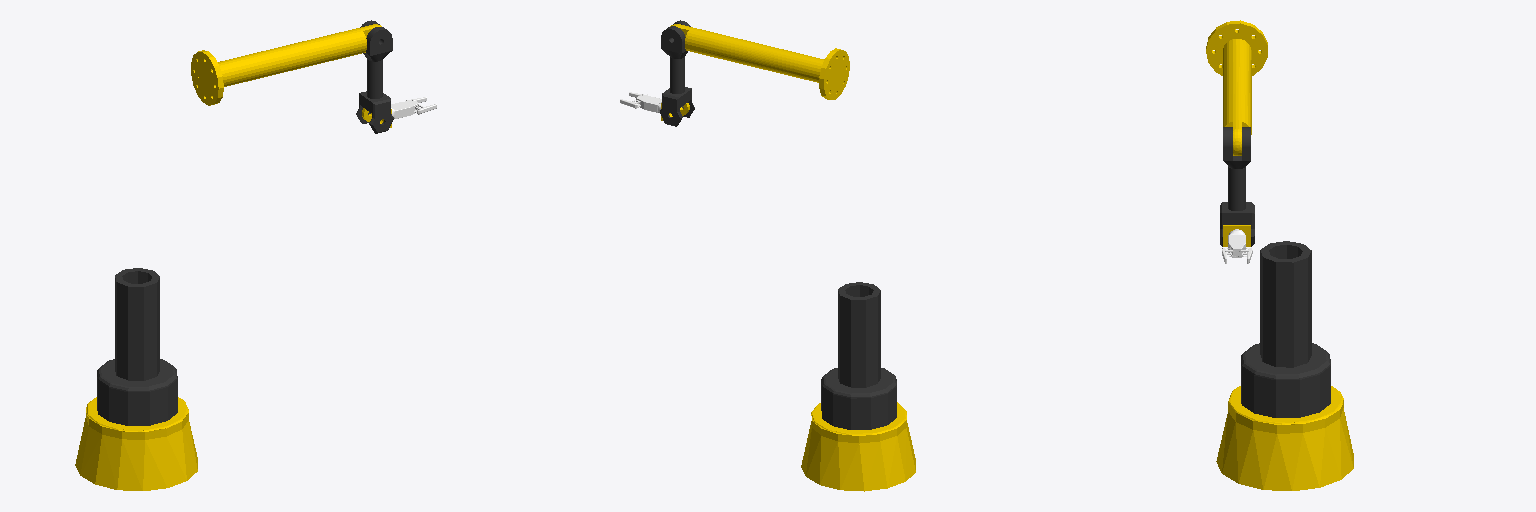
URDF robot description (robot):
<?xml version="1.0"?>

<robot name="robot">

  <!-- Color of materials -->
  <material name="yellow">
    <color rgba="1 0.839 0 1"/>
  </material>
  <material name="gray">
    <color rgba="0.267 0.267 0.267 1"/>
  </material>
  <material name="steel">
    <color rgba="0.7 0.7 0.7 1"/>
  </material>
  <material name="white">
    <color rgba="1 1 1 1"/>
  </material> 

  <link name="Base">
    <visual>
      <geometry>
        <mesh filename="package://proyecto/meshes/Base.stl" scale="0.01 0.01 0.01"/>
      </geometry>
      <origin rpy="0 0 0.3" xyz="0 0 0"/>
      <material name="yellow" />
    </visual>
    <inertial>
      <mass value="100"/>
      <origin rpy="0 0 0" xyz="0.0 0.0 0.0"/>
      <inertia ixx="0.145" ixy="0.0" ixz="0.0" iyy="14.5" iyz="0.0" izz="20.708"/>
    </inertial>
  </link>
  <gazebo reference="Base">
    <material>Gazebo/White</material>
  </gazebo>

  <joint name="q1" type="revolute">
    <parent link="Base"/>
    <child link="Eslabon1"/>
    <origin xyz="0 0 0.3"/>
    <axis xyz="0 0 1" />
    <limit effort="300" velocity="0.1" lower="-3.1" upper="3.1"/>
    <dynamics damping="50" friction="1"/>
  </joint>

  <link name="Eslabon1">
    <visual>
      <geometry>
        <mesh filename="package://proyecto/meshes/Eslabon1.stl" scale="0.01 0.01 0.01"/>
      </geometry>
      <origin rpy="0 0 0.3" xyz="0 0 0"/>
      <material name="gray" />
    </visual>
    <inertial>
      <mass value="10"/>
      <origin rpy="0 0 0" xyz="0.0 0.0 0.0"/>
      <inertia ixx="12.429" ixy="0.0" ixz="0.0" iyy="12.429" iyz="0.0" izz="4.797"/>
    </inertial>
  </link>
  <gazebo reference="Eslabon1">
    <material>Gazebo/Red</material>
  </gazebo>

  <joint name="q2" type="prismatic">
    <parent link="Eslabon1"/>
    <child link="Eslabon2"/>
    <origin xyz="0 0 0.2"/>
    <axis xyz="0 0 1" />
    <limit effort="300" velocity="0.1" lower="0" upper="0.5"/>
    <dynamics damping="50" friction="1"/>
  </joint>

  <link name="Eslabon2">
    <visual>
      <geometry>
        <mesh filename="package://proyecto/meshes/Eslabon2.stl" scale="0.01 0.01 0.01"/>
      </geometry>
      <origin rpy="0 0 0.5" xyz="0 0 0"/>
      <material name="steel" />
    </visual>
    <inertial>
      <mass value="0.40"/>
      <origin rpy="0 0 0" xyz="0.0 0.0 0.0"/>
      <inertia ixx="19.032" ixy="0.0" ixz="0.0" iyy="19.032" iyz="0.0" izz="0.578"/>
    </inertial>
  </link>
  <gazebo reference="Eslabon2">
    <material>Gazebo/White</material>
  </gazebo>

  <joint name="q3" type="revolute">
    <parent link="Eslabon2"/>
    <child link="Eslabon3"/>
    <origin xyz="0 -0.21 1.2"/>
    <axis xyz="0 -1 0"/>
    <limit effort="300" velocity="0.1" lower="-3.1" upper="3.1"/>
    <dynamics damping="50" friction="1"/>
  </joint>

  <link name="Eslabon3">
    <visual>
      <geometry>
        <mesh filename="package://proyecto/meshes/Eslabon3.stl" scale="0.01 0.01 0.01"/>
      </geometry>
      <origin rpy="0 0 0" xyz="0 0 0"/>
      <material name="yellow" />
    </visual>
    <inertial>
      <mass value="0.40"/>
      <origin rpy="0 0 0" xyz="0.0 0.0 0.0"/>
      <inertia ixx="6.719" ixy="-0.001" ixz="-0.593" iyy="8.49" iyz="0.011" izz="2.757"/>
    </inertial>
  </link>
  <gazebo reference="Eslabon3">
    <material>Gazebo/White</material>
  </gazebo>

  <joint name="q4" type="revolute">
    <parent link="Eslabon3"/>
    <child link="Eslabon4"/>
    <origin xyz="0.254 0 0.385371"/>
    <axis xyz="1 0 0" />
    <limit effort="300" velocity="0.1" lower="-3.1" upper="3.1"/>
    <dynamics damping="50" friction="1"/>
  </joint>

  <link name="Eslabon4">
    <visual>
      <geometry>
        <mesh filename="package://proyecto/meshes/Eslabon4.stl" scale="0.01 0.01 0.01"/>
      </geometry>
      <origin rpy="0 0 0" xyz="0 0 0"/>
      <material name="yellow" />
    </visual>
    <inertial>
      <mass value="4.0"/>
      <origin rpy="0 0 0" xyz="0.0 0.0 0.0"/>
      <inertia ixx="0.287" ixy="0.0" ixz="0.0" iyy="8.504" iyz="0.0" izz="8.499"/>
    </inertial>
  </link>
  <gazebo reference="Eslabon4">
    <material>Gazebo/White</material>
  </gazebo>

  <joint name="q5" type="revolute">
    <parent link="Eslabon4"/>
    <child link="Eslabon5"/>
    <origin xyz="0.95 0 0"/>
    <axis xyz="0 1 0" />
    <limit effort="300" velocity="0.1" lower="-3.1" upper="3.1"/>
    <dynamics damping="50" friction="1"/>
  </joint>

  <link name="Eslabon5">
    <visual>
      <geometry>
        <mesh filename="package://proyecto/meshes/Eslabon5.stl" scale="0.01 0.01 0.01"/>
      </geometry>
      <origin rpy="0 0 0" xyz="0 0 0"/>
      <material name="gray" />
    </visual>
    <inertial>
      <mass value="4.0"/>
      <origin rpy="0 0 0" xyz="0.0 0.0 0.0"/>
      <inertia ixx="0.648" ixy="0.0" ixz="0.0" iyy="0.629" iyz="0.0" izz="0.068"/>
    </inertial>
  </link>
  <gazebo reference="Eslabon5">
    <material>Gazebo/White</material>
  </gazebo>

  <joint name="q6" type="revolute">
    <parent link="Eslabon5"/>
    <child link="Eslabon6"/>
    <origin xyz="0 0 -0.4225"/>
    <axis xyz="0 1 0" />
    <limit effort="300" velocity="0.1" lower="-3.1" upper="3.1"/>
    <dynamics damping="50" friction="1"/>
  </joint>

  <link name="Eslabon6">
    <visual>
      <geometry>
        <mesh filename="package://proyecto/meshes/Eslabon6.stl" scale="0.01 0.01 0.01"/>
      </geometry>
      <origin rpy="0 0 0" xyz="0 0 0"/>
      <material name="yellow" />
    </visual>
    <inertial>
      <mass value="4.0"/>
      <origin rpy="0 0 0" xyz="0.0 0.0 0.0"/>
      <inertia ixx="0.007" ixy="0.0" ixz="0.0" iyy="0.011" iyz="0.0" izz="0.011"/>
    </inertial>
  </link>
  <gazebo reference="Eslabon6">
    <material>Gazebo/White</material>
  </gazebo>

  <joint name="q7" type="revolute">
    <parent link="Eslabon6"/>
    <child link="Efector"/>
    <origin xyz="0.3145 0 0" rpy="0 1.57079 0"/>
    <axis xyz="0 0 1" />
    <limit effort="300" velocity="0.1" lower="-3.1" upper="3.1"/>
    <dynamics damping="50" friction="1"/>
  </joint>

  <link name="Efector">
    <visual>
      <geometry>
        <mesh filename="package://proyecto/meshes/Efector_Final.stl" scale="0.01 0.01 0.01"/>
      </geometry>
      <origin rpy="0 0 0" xyz="0 0 0"/>
      <material name="white" />
    </visual>
    <inertial>
      <mass value="4.0"/>
      <origin rpy="0 0 0" xyz="0.0 0.0 0.0"/>
      <inertia ixx="0.02" ixy="0.0" ixz="0.0" iyy="0.017" iyz="0.0" izz="0.004"/>
    </inertial>
  </link>
  <gazebo reference="Efector">
    <material>Gazebo/White</material>
  </gazebo>

  <!-- Transmissions -->
  <transmission name="tran1">
    <type>transmission_interface/SimpleTransmission</type>
    <joint name="q1">
      <hardwareInterface>hardware_interface/EffortJointInterface</hardwareInterface>
    </joint>
    <actuator name="motor1">
      <hardwareInterface>hardware_interface/EffortJointInterface</hardwareInterface>
      <mechanicalReduction>1</mechanicalReduction>
    </actuator>
  </transmission>

  <transmission name="tran2">
    <type>transmission_interface/SimpleTransmission</type>
    <joint name="q2">
      <hardwareInterface>hardware_interface/EffortJointInterface</hardwareInterface>
    </joint>
    <actuator name="motor2">
      <hardwareInterface>hardware_interface/EffortJointInterface</hardwareInterface>
      <mechanicalReduction>1</mechanicalReduction>
    </actuator>
  </transmission>

  <transmission name="tran3">
    <type>transmission_interface/SimpleTransmission</type>
    <joint name="q3">
      <hardwareInterface>hardware_interface/EffortJointInterface</hardwareInterface>
    </joint>
    <actuator name="motor3">
      <hardwareInterface>hardware_interface/EffortJointInterface</hardwareInterface>
      <mechanicalReduction>1</mechanicalReduction>
    </actuator>
  </transmission>

  <transmission name="tran4">
    <type>transmission_interface/SimpleTransmission</type>
    <joint name="q4">
      <hardwareInterface>hardware_interface/EffortJointInterface</hardwareInterface>
    </joint>
    <actuator name="motor4">
      <hardwareInterface>hardware_interface/EffortJointInterface</hardwareInterface>
      <mechanicalReduction>1</mechanicalReduction>
    </actuator>
  </transmission>

  <transmission name="tran5">
    <type>transmission_interface/SimpleTransmission</type>
    <joint name="q5">
      <hardwareInterface>hardware_interface/EffortJointInterface</hardwareInterface>
    </joint>
    <actuator name="motor5">
      <hardwareInterface>hardware_interface/EffortJointInterface</hardwareInterface>
      <mechanicalReduction>1</mechanicalReduction>
    </actuator>
  </transmission>

  <transmission name="tran6">
    <type>transmission_interface/SimpleTransmission</type>
    <joint name="q6">
      <hardwareInterface>hardware_interface/EffortJointInterface</hardwareInterface>
    </joint>
    <actuator name="motor6">
      <hardwareInterface>hardware_interface/EffortJointInterface</hardwareInterface>
      <mechanicalReduction>1</mechanicalReduction>
    </actuator>
  </transmission>

  <transmission name="tran7">
    <type>transmission_interface/SimpleTransmission</type>
    <joint name="q7">
      <hardwareInterface>hardware_interface/EffortJointInterface</hardwareInterface>
    </joint>
    <actuator name="motor7">
      <hardwareInterface>hardware_interface/EffortJointInterface</hardwareInterface>
      <mechanicalReduction>1</mechanicalReduction>
    </actuator>
  </transmission>
   <!-- Plugin: ros_control -->
   <gazebo>
     <plugin name="gazebo_ros_control" filename="libgazebo_ros_control.so">
       <robotNamespace>/robot</robotNamespace>
       <legacyModeNS>true</legacyModeNS>
     </plugin>
   </gazebo>

</robot>

--- Render facts (derived) ---
The picture shows the robot from 3 angles, left to right: view 1: azimuth 30°, elevation 25°; view 2: azimuth 150°, elevation 25°; view 3: azimuth 270°, elevation 25°; orthographic projection.
Model robot with 8 links and 7 joints (6 revolute, 1 prismatic), rooted at Base, posed every joint at zero.
Visible links, largest first — view 1: Eslabon1, Base, Eslabon4, Eslabon5, Efector; view 2: Eslabon1, Base, Eslabon4, Eslabon5; view 3: Eslabon1, Base, Eslabon4, Eslabon5, Efector.
Link boxes in pixels (x1=…): Eslabon1: x1=97, y1=268, x2=177, y2=425; Base: x1=75, y1=397, x2=197, y2=490; Eslabon4: x1=191, y1=24, x2=381, y2=105; Eslabon5: x1=356, y1=20, x2=393, y2=133; Efector: x1=391, y1=97, x2=436, y2=118; Eslabon1: x1=821, y1=282, x2=896, y2=429; Base: x1=801, y1=402, x2=915, y2=491; Eslabon4: x1=670, y1=24, x2=849, y2=99; Eslabon5: x1=660, y1=20, x2=694, y2=126; Eslabon1: x1=1241, y1=241, x2=1330, y2=417; Base: x1=1216, y1=386, x2=1353, y2=490; Eslabon4: x1=1206, y1=20, x2=1267, y2=155; Eslabon5: x1=1220, y1=127, x2=1254, y2=246; Efector: x1=1222, y1=229, x2=1252, y2=263.
Bounding box of the posed robot: 1.82 × 0.6393 × 2.22 m (x, y, z).
6 mesh visuals loaded from 8 distinct referenced files (6 binary STL); not drawn: 2 (reference not matched to a file when rendering).
